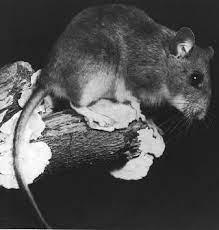rat: (12, 4, 214, 230)
